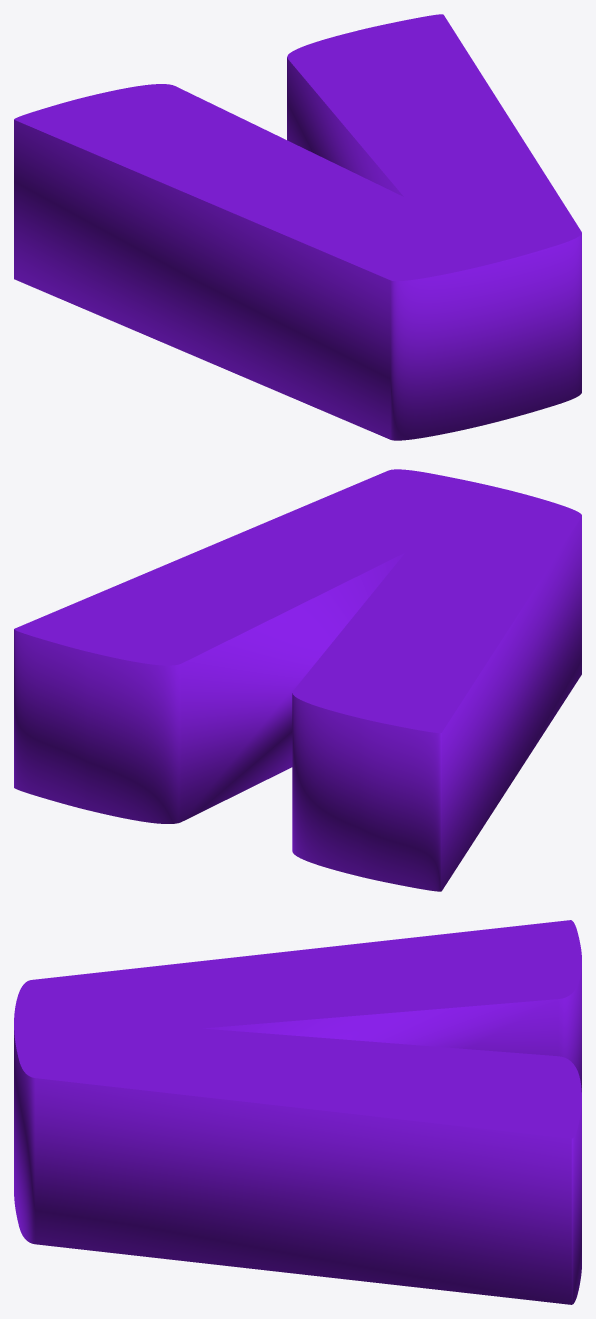
The picture shows the model from 3 angles, top to bottom: view 1: azimuth 30°, elevation 25°; view 2: azimuth 150°, elevation 25°; view 3: azimuth 270°, elevation 25°; orthographic projection. The views are drawn at different scales.
Parts seen in each view (by area): view 1: v; view 2: v; view 3: v.
Part boxes in pixels (<box>): v: <box>14,14,581,440</box>; v: <box>14,469,581,891</box>; v: <box>14,920,581,1304</box>.
Bounding box in the file's own units: 0.2763 × 0.098 × 0.3034.
